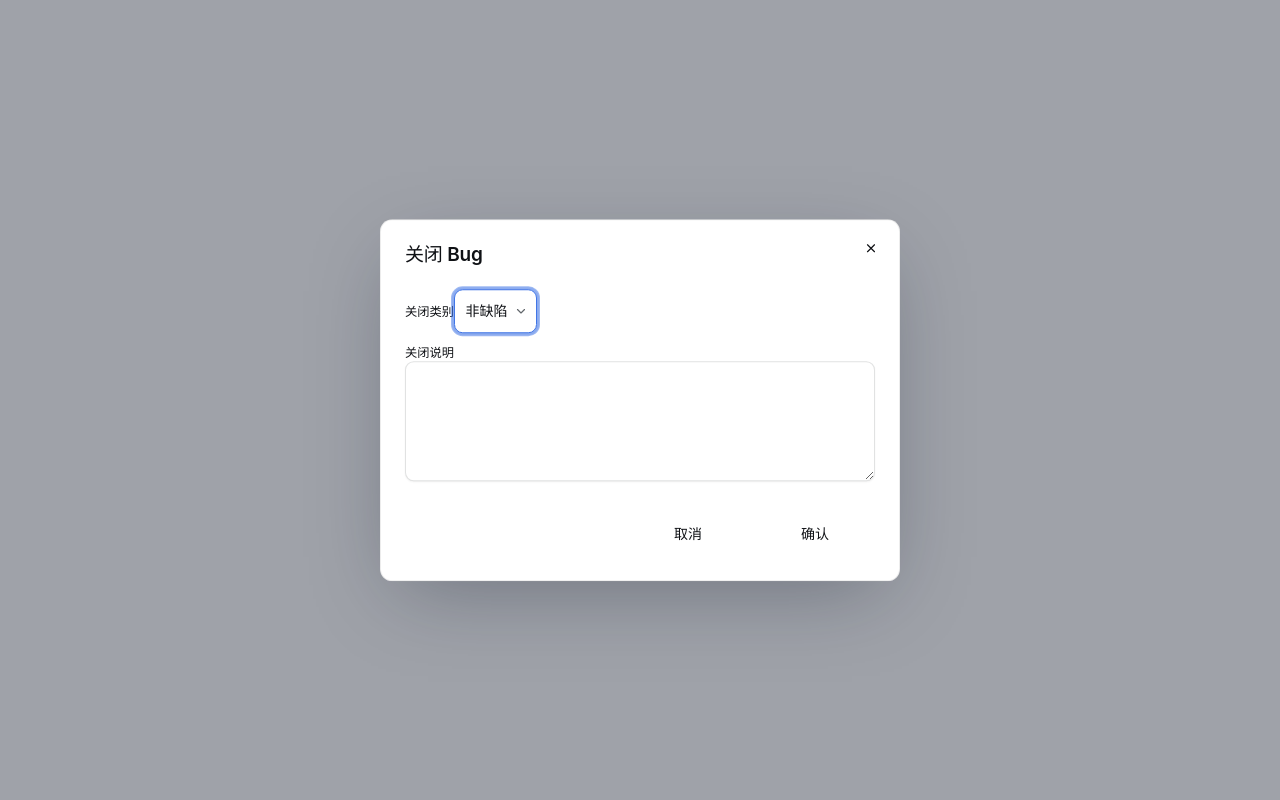
BugActionDialog › 关闭 Bug 必须填写说明
The width and height of the screenshot is (1280, 800).
Click the button "确认" at (815,534), box [755, 512, 875, 556]
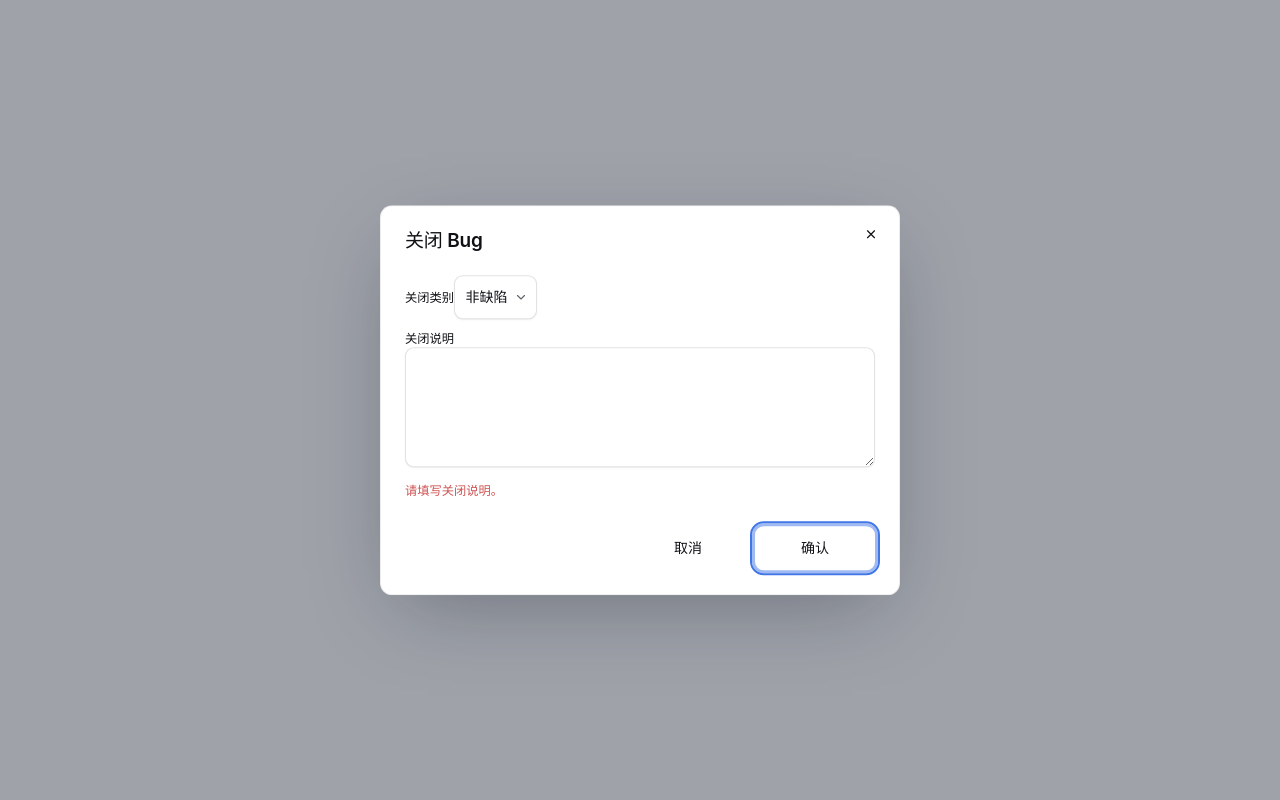
Expected: the message shows "请填写关闭说明", [405, 483, 503, 498]
